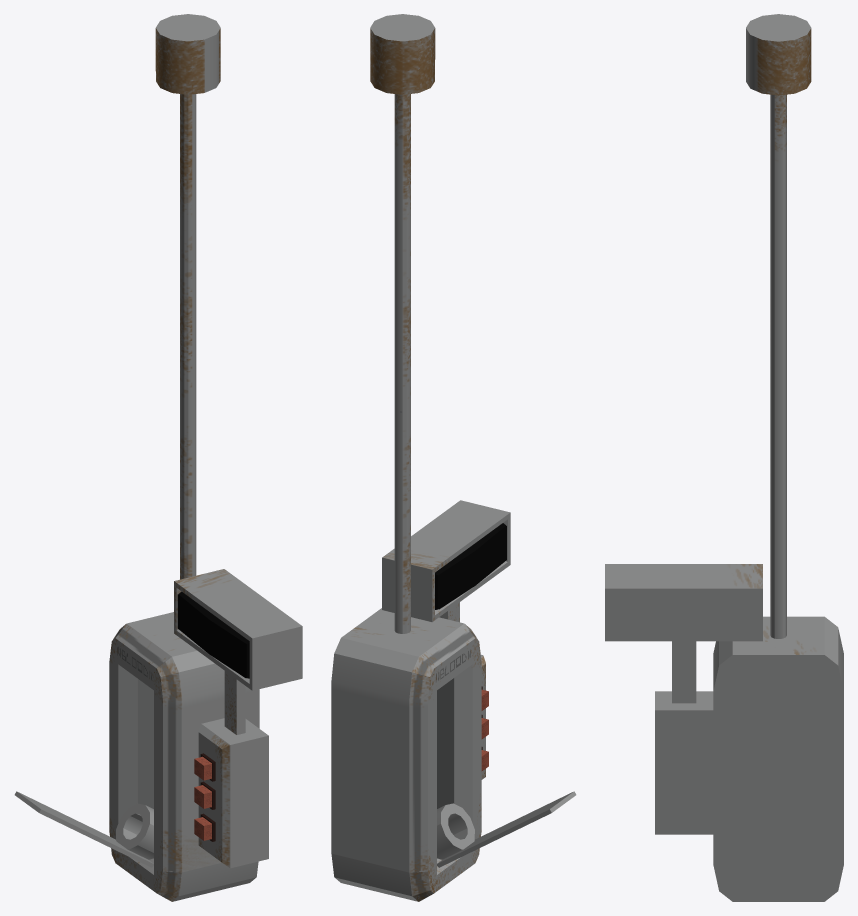
Rendered from Prop_Blood_Collector_Machine.fbx.
3 views of the same model, side by side, from view 1: azimuth 30°, elevation 25°; view 2: azimuth 150°, elevation 25°; view 3: azimuth 270°, elevation 25° (orthographic).
Visible parts, largest first — view 1: Cube.005, Cube.004, Cube.006; view 2: Cube.005, Cube.004, Cube.006; view 3: Cube.005.
Part boxes in pixels (bbox=[...]): Cube.005: bbox=[109, 14, 302, 901]; Cube.004: bbox=[14, 791, 153, 867]; Cube.006: bbox=[177, 594, 245, 677]; Cube.005: bbox=[331, 14, 510, 901]; Cube.004: bbox=[437, 791, 576, 867]; Cube.006: bbox=[439, 526, 506, 609]; Cube.005: bbox=[605, 14, 843, 901].
Size of the model in its own units: 37.74 by 153 by 38.61.
